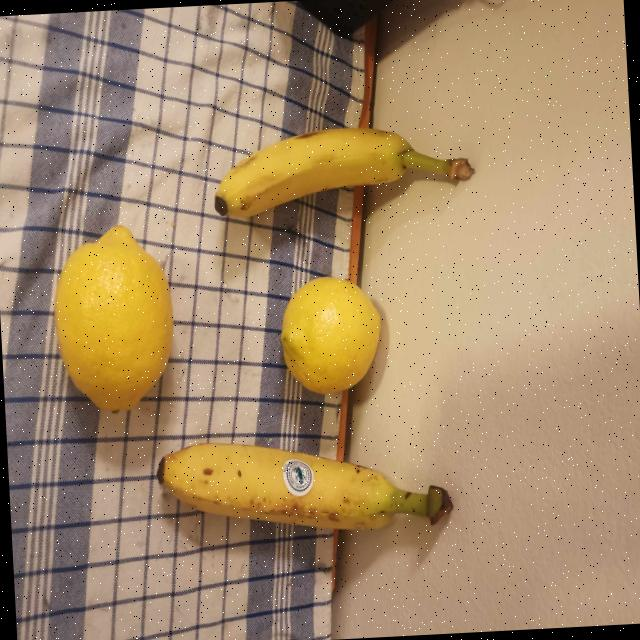banana: (156, 443, 452, 530), (214, 128, 474, 218)
lemon: (54, 226, 173, 410), (281, 276, 380, 394)
